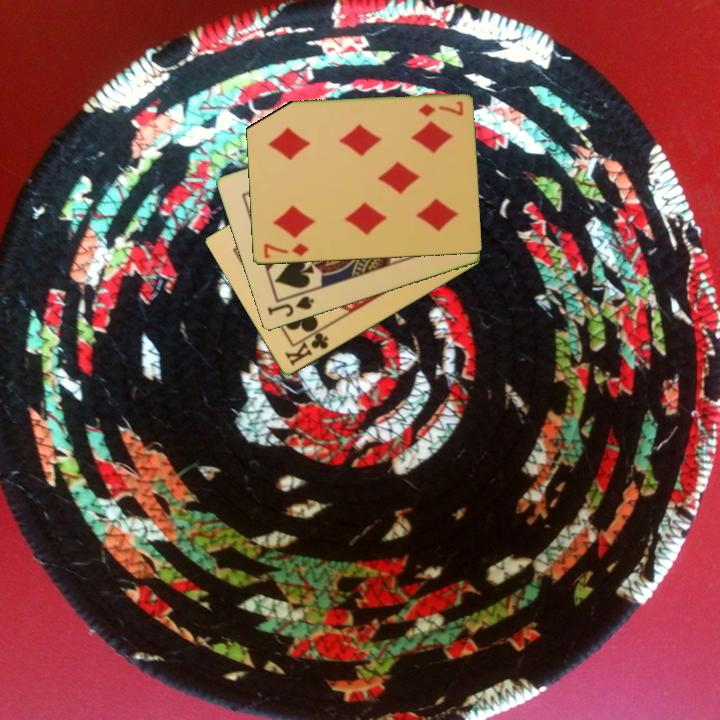7d: (414, 98, 466, 120), (260, 240, 311, 262)
Js: (264, 293, 317, 320)
Kc: (281, 325, 332, 369)
